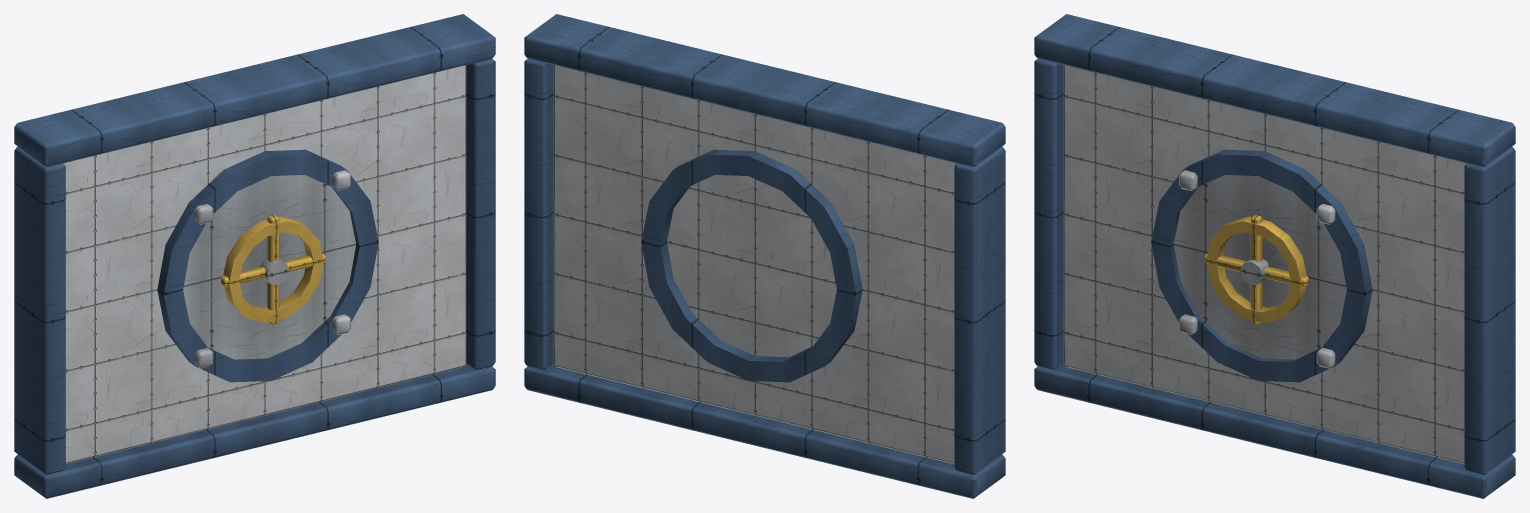
The model's file is hatch.glb.
3 renders of one model, left to right at view 1: azimuth 30°, elevation 25°; view 2: azimuth 150°, elevation 25°; view 3: azimuth 330°, elevation 25°, orthographic.
Parts seen in each view (by area): view 1: hatch_hull_offwhite, hatch_navy_frame, hatch_titanium, hatch_amber_accent; view 2: hatch_hull_offwhite, hatch_navy_frame; view 3: hatch_hull_offwhite, hatch_navy_frame, hatch_titanium, hatch_amber_accent.
Part boxes in pixels (left/top/right/bottom): hatch_hull_offwhite: left=62, top=65, right=466, bottom=463; hatch_navy_frame: left=14, top=14, right=495, bottom=498; hatch_titanium: left=183, top=170, right=356, bottom=368; hatch_amber_accent: left=221, top=215, right=325, bottom=324; hatch_hull_offwhite: left=553, top=65, right=957, bottom=463; hatch_navy_frame: left=524, top=14, right=1005, bottom=498; hatch_hull_offwhite: left=1063, top=65, right=1467, bottom=463; hatch_navy_frame: left=1034, top=14, right=1515, bottom=498; hatch_titanium: left=1173, top=170, right=1346, bottom=368; hatch_amber_accent: left=1204, top=215, right=1308, bottom=324.
Size of the model in its own units: 4 by 3 by 0.61.
Materials: 4 (4 with a texture image).
